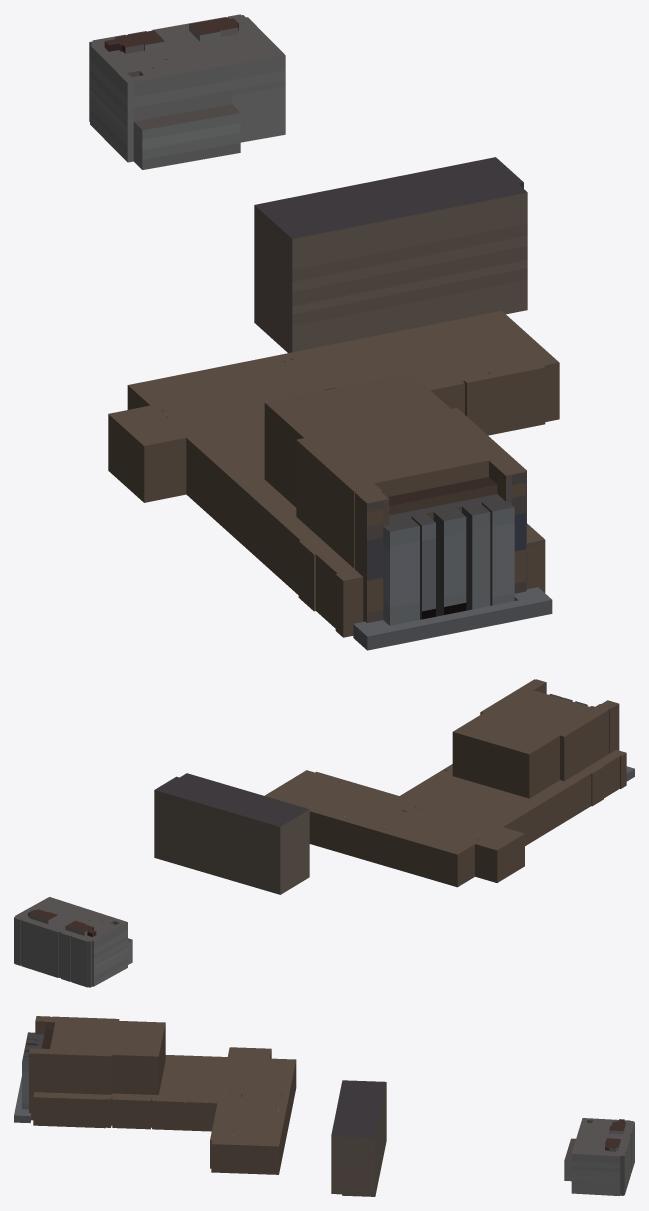
File: t_3_-1.far.glb
The picture shows the model from 3 angles, top to bottom: view 1: azimuth 30°, elevation 25°; view 2: azimuth 150°, elevation 25°; view 3: azimuth 270°, elevation 25°; orthographic projection. The views are drawn at different scales.
Parts seen in each view (by area): view 1: opaque; view 2: opaque; view 3: opaque.
Part boxes in pixels (x1,y1,x2,y2): opaque: [89, 14, 559, 650]; opaque: [14, 679, 634, 987]; opaque: [14, 1016, 634, 1196].
Bounding box in the file's own units: 129 × 33.2 × 279.
Materials: 1 (1 with a texture image).
